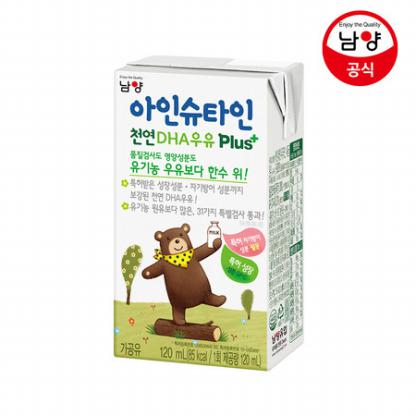tetra: (103, 44, 314, 380)
